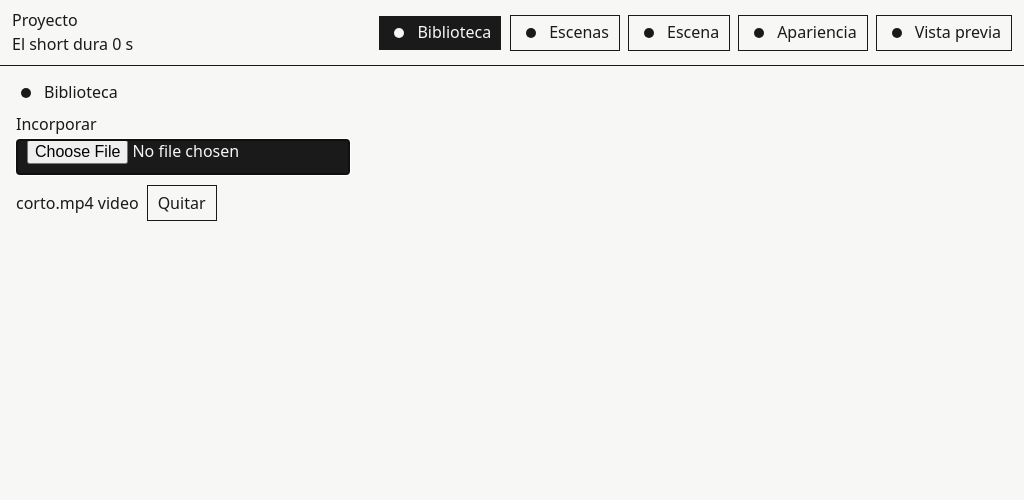
Test case: un video más corto que tres segundos nace con el largo del archivo
Earlier steps of the test are not shown.
Click the button "Escenas".
click(565, 33)  # box [510,15,620,51]
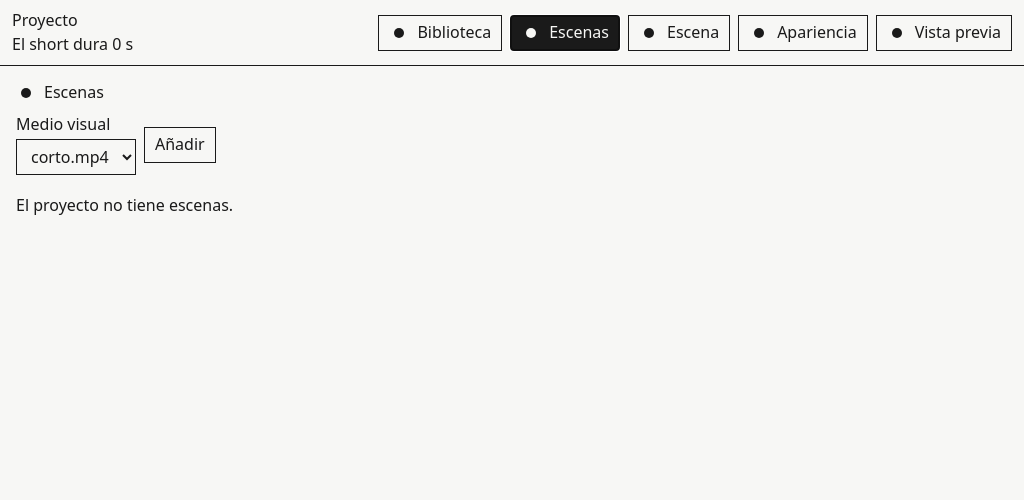
Click the button "Añadir".
click(180, 145)  # box [144,127,216,163]
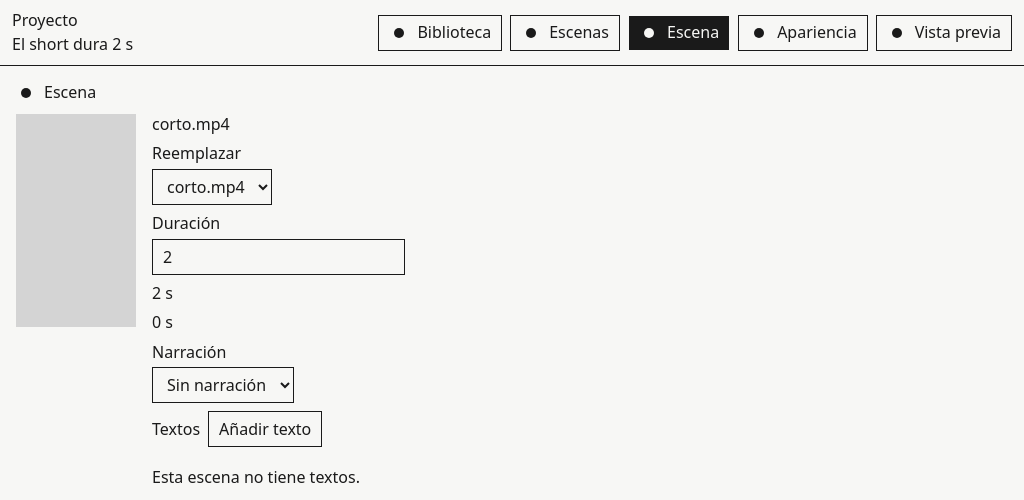
expect the text "corto.mp4" is shown: met, box [152,113,230,135]
expect the text "2 s" is shown: met, box [152,282,173,304]
expect the text "El short dura 2 s" is shown: met, box [12,34,133,55]
